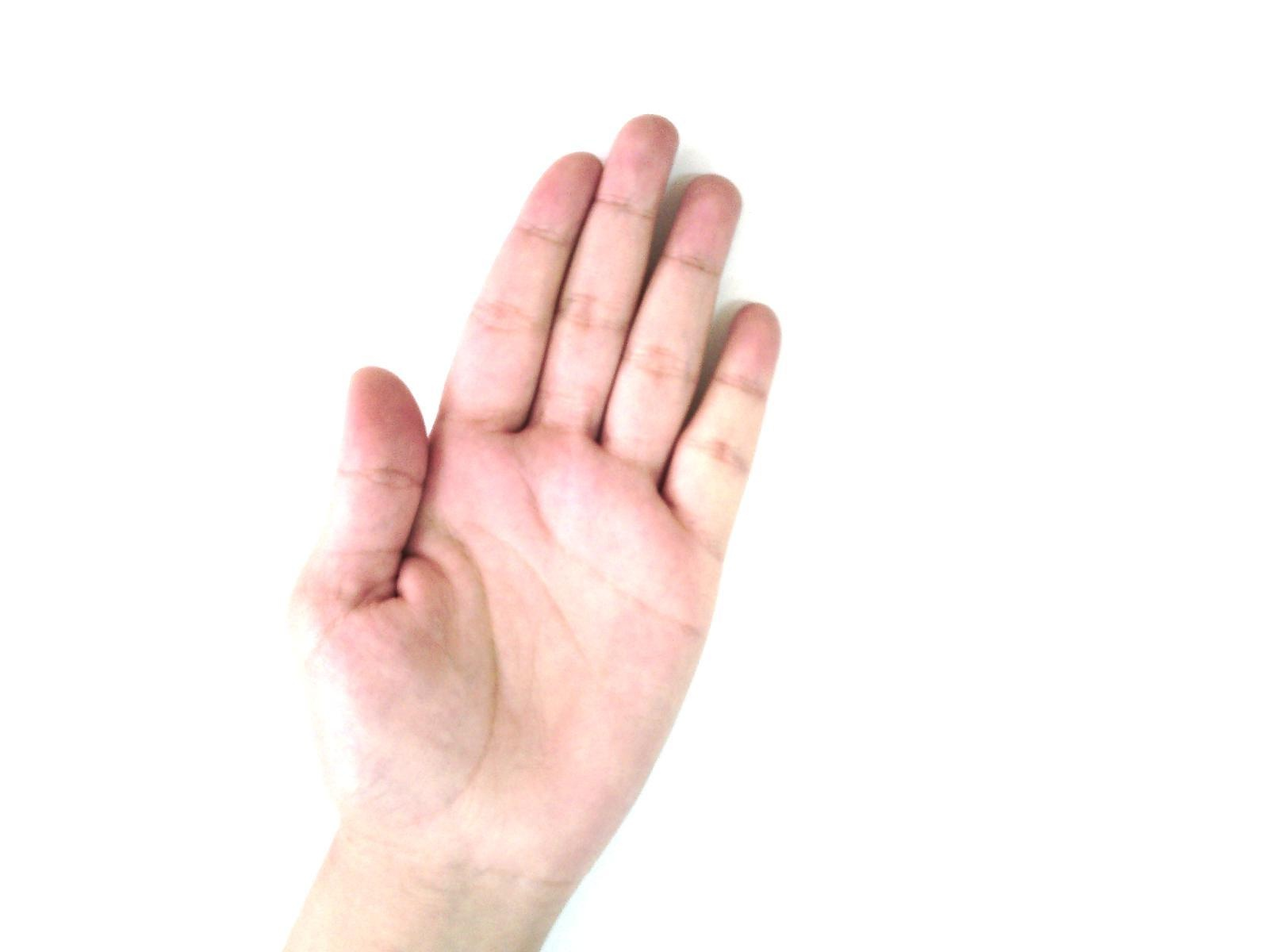open_palm: (280, 113, 785, 878)
